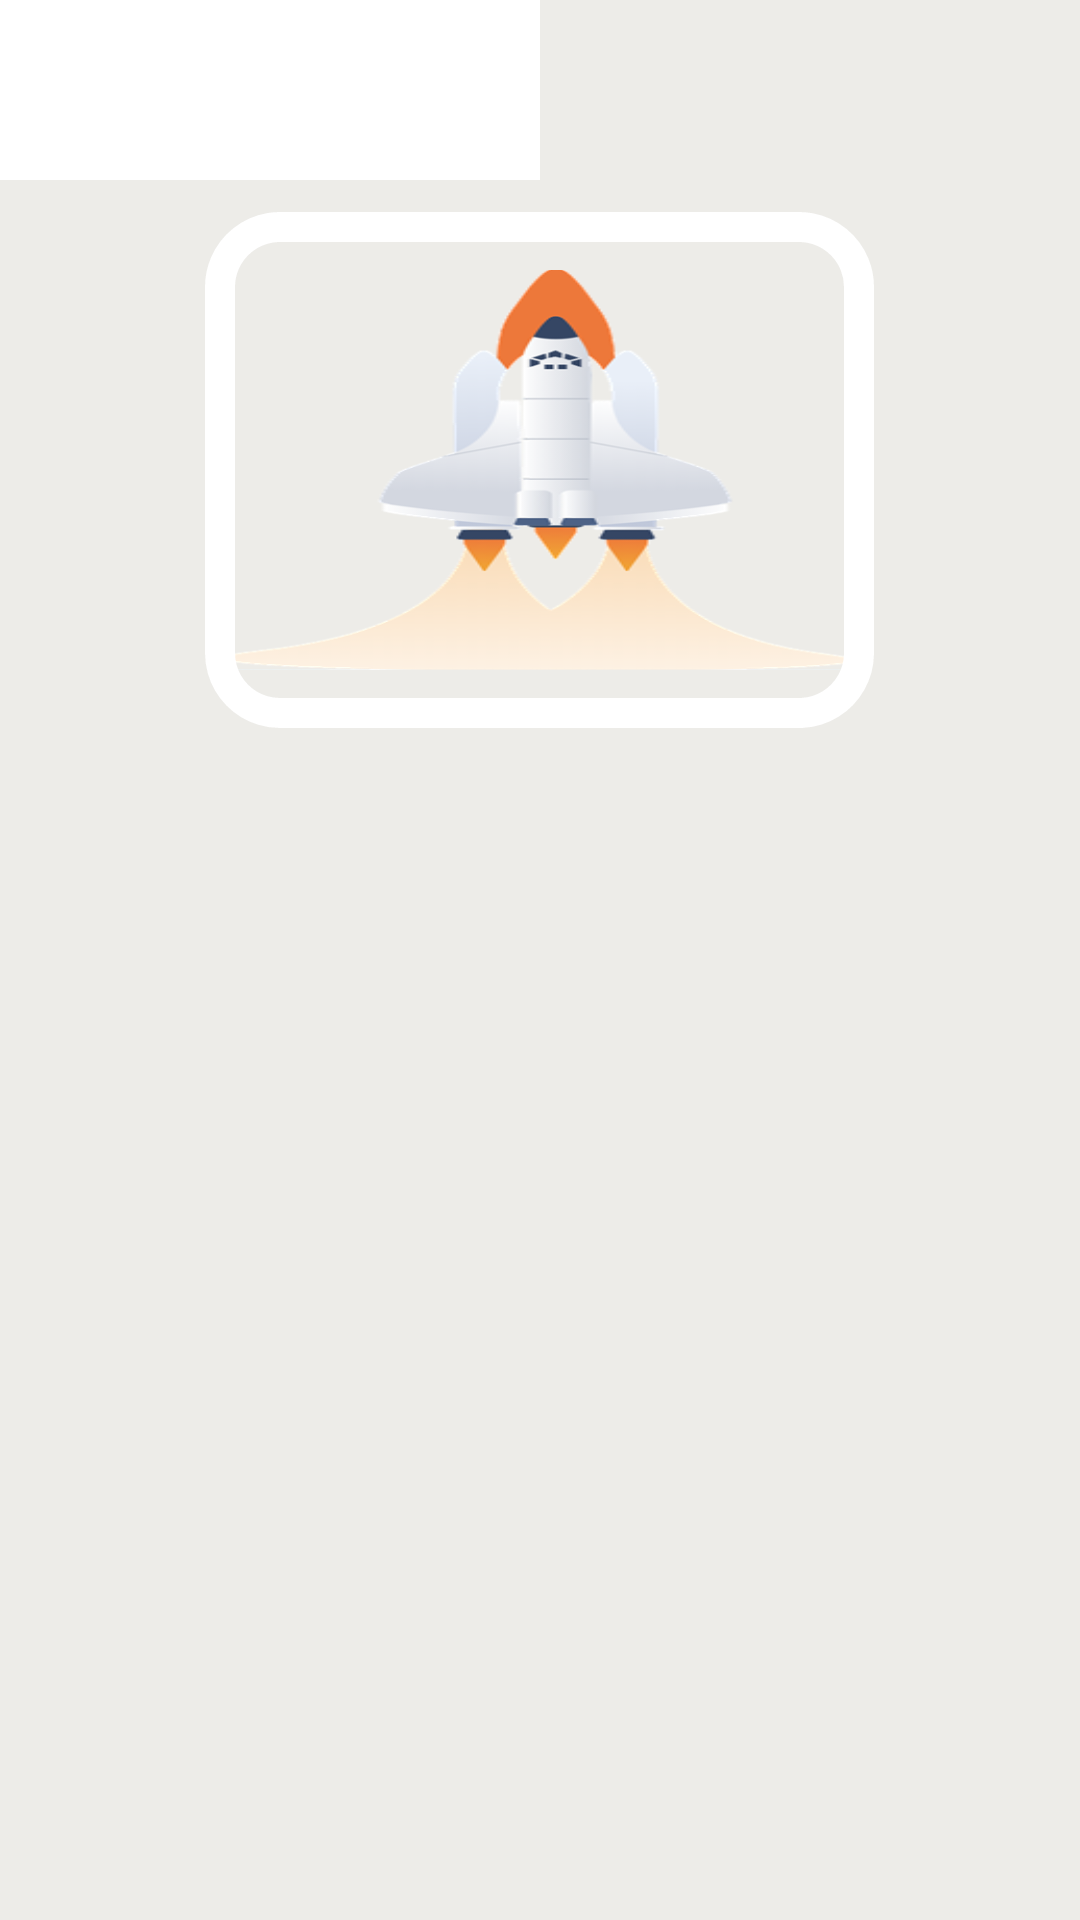

Screen size 1080 x 1920. Icon name, then its box in pixels as (x1, y1, x2, y2):
flying ship: (382, 270, 727, 620)
